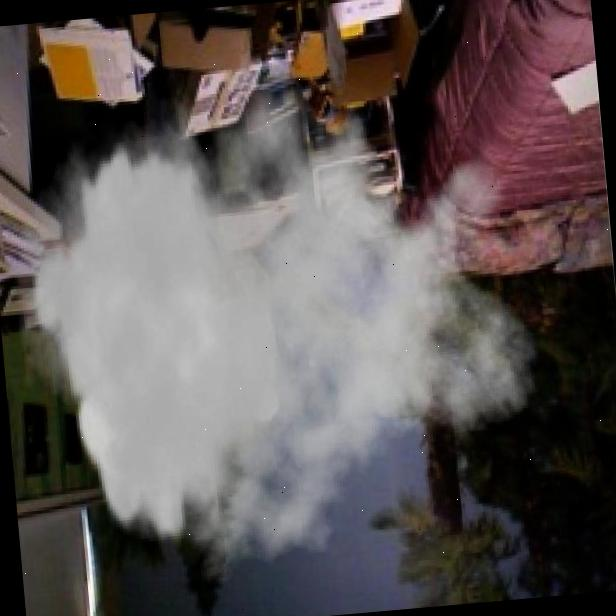smoke: (0, 1, 558, 607)
